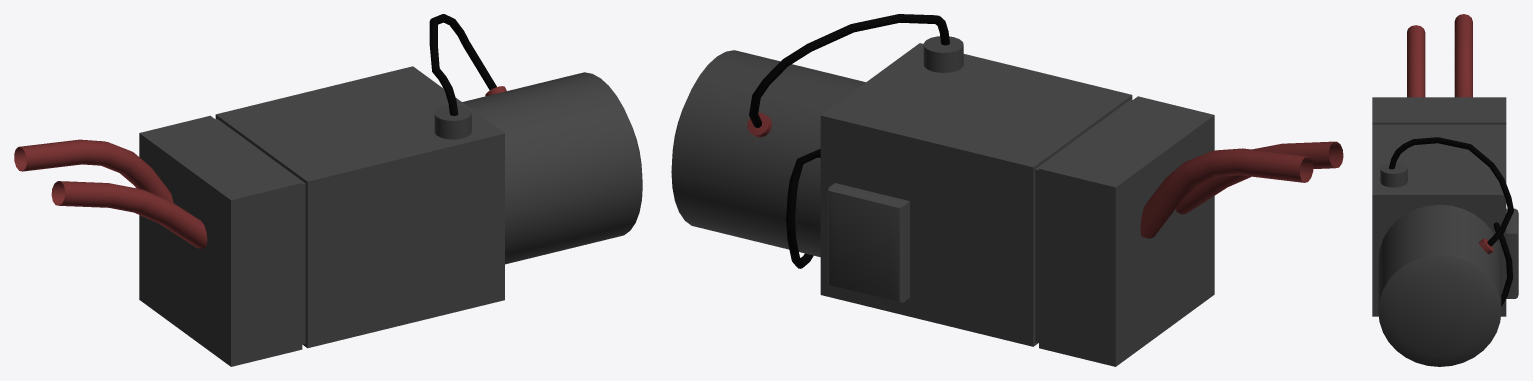
Rendered from HydraulicBomb.fbx.
3 renders of one model, left to right at view 1: azimuth 30°, elevation 25°; view 2: azimuth 150°, elevation 25°; view 3: azimuth 270°, elevation 25°, orthographic. The views are drawn at different scales.
Parts seen in each view (by area): view 1: Bomba; view 2: Bomba; view 3: Bomba.
Part boxes in pixels (x1=…): Bomba: x1=14, y1=14, x2=642, y2=366; Bomba: x1=671, y1=14, x2=1343, y2=366; Bomba: x1=1372, y1=14, x2=1518, y2=366.
Bounding box in the file's own units: 176 × 68.31 × 53.1.
